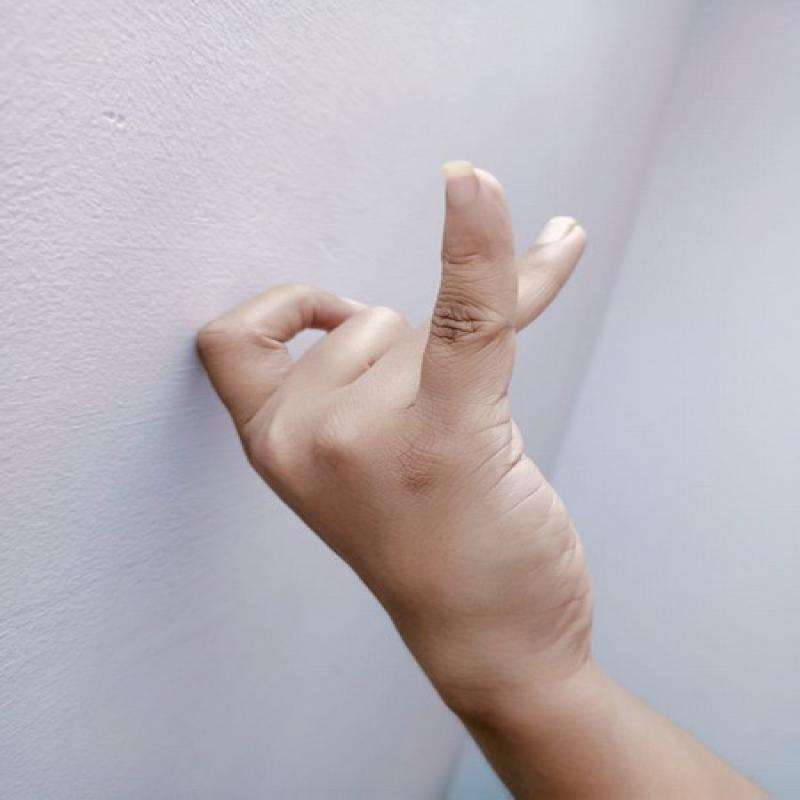Katakam: (178, 145, 657, 707)
